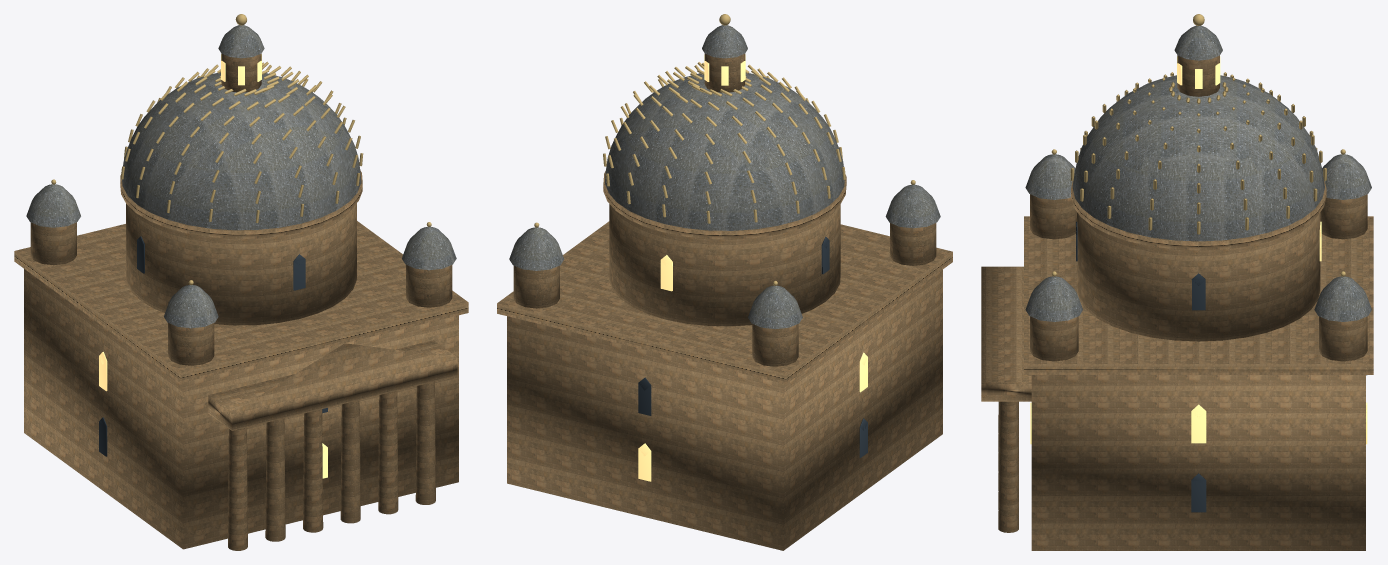
The model's file is dome_hall.glb.
3 views of the same model, side by side, from view 1: azimuth 30°, elevation 25°; view 2: azimuth 150°, elevation 25°; view 3: azimuth 270°, elevation 25° (orthographic). The views are drawn at different scales.
Parts seen in each view (by area): view 1: dome_hall; view 2: dome_hall; view 3: dome_hall.
Part boxes in pixels (box(x1,y1,x2,y2)): dome_hall: box(14, 14, 468, 550); dome_hall: box(497, 14, 952, 550); dome_hall: box(981, 14, 1373, 550).
Bounding box in the file's own units: 23 × 33.8 × 25.8.
Materials: 5 (2 with a texture image).
